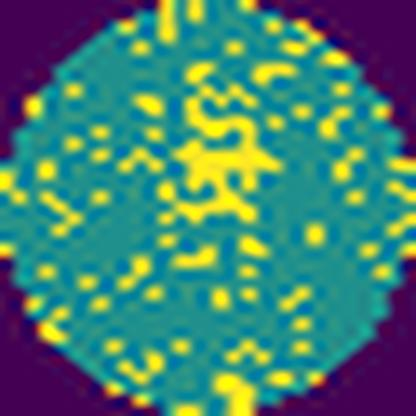Loc: (152, 58, 290, 222)
